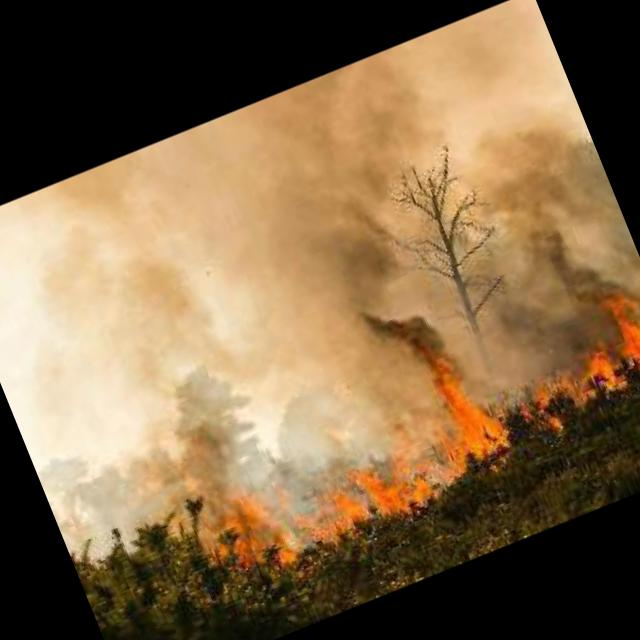fire: (174, 296, 640, 598)
smoke: (277, 136, 465, 395), (135, 367, 254, 524), (544, 188, 608, 337)
